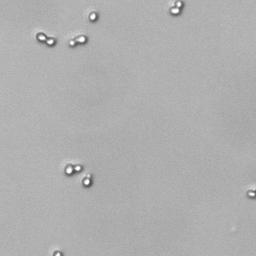budding: (68, 33, 87, 48), (64, 162, 83, 177), (36, 32, 55, 46), (169, 1, 184, 15), (82, 172, 93, 188)
individual: (246, 188, 256, 198), (89, 11, 98, 22)
